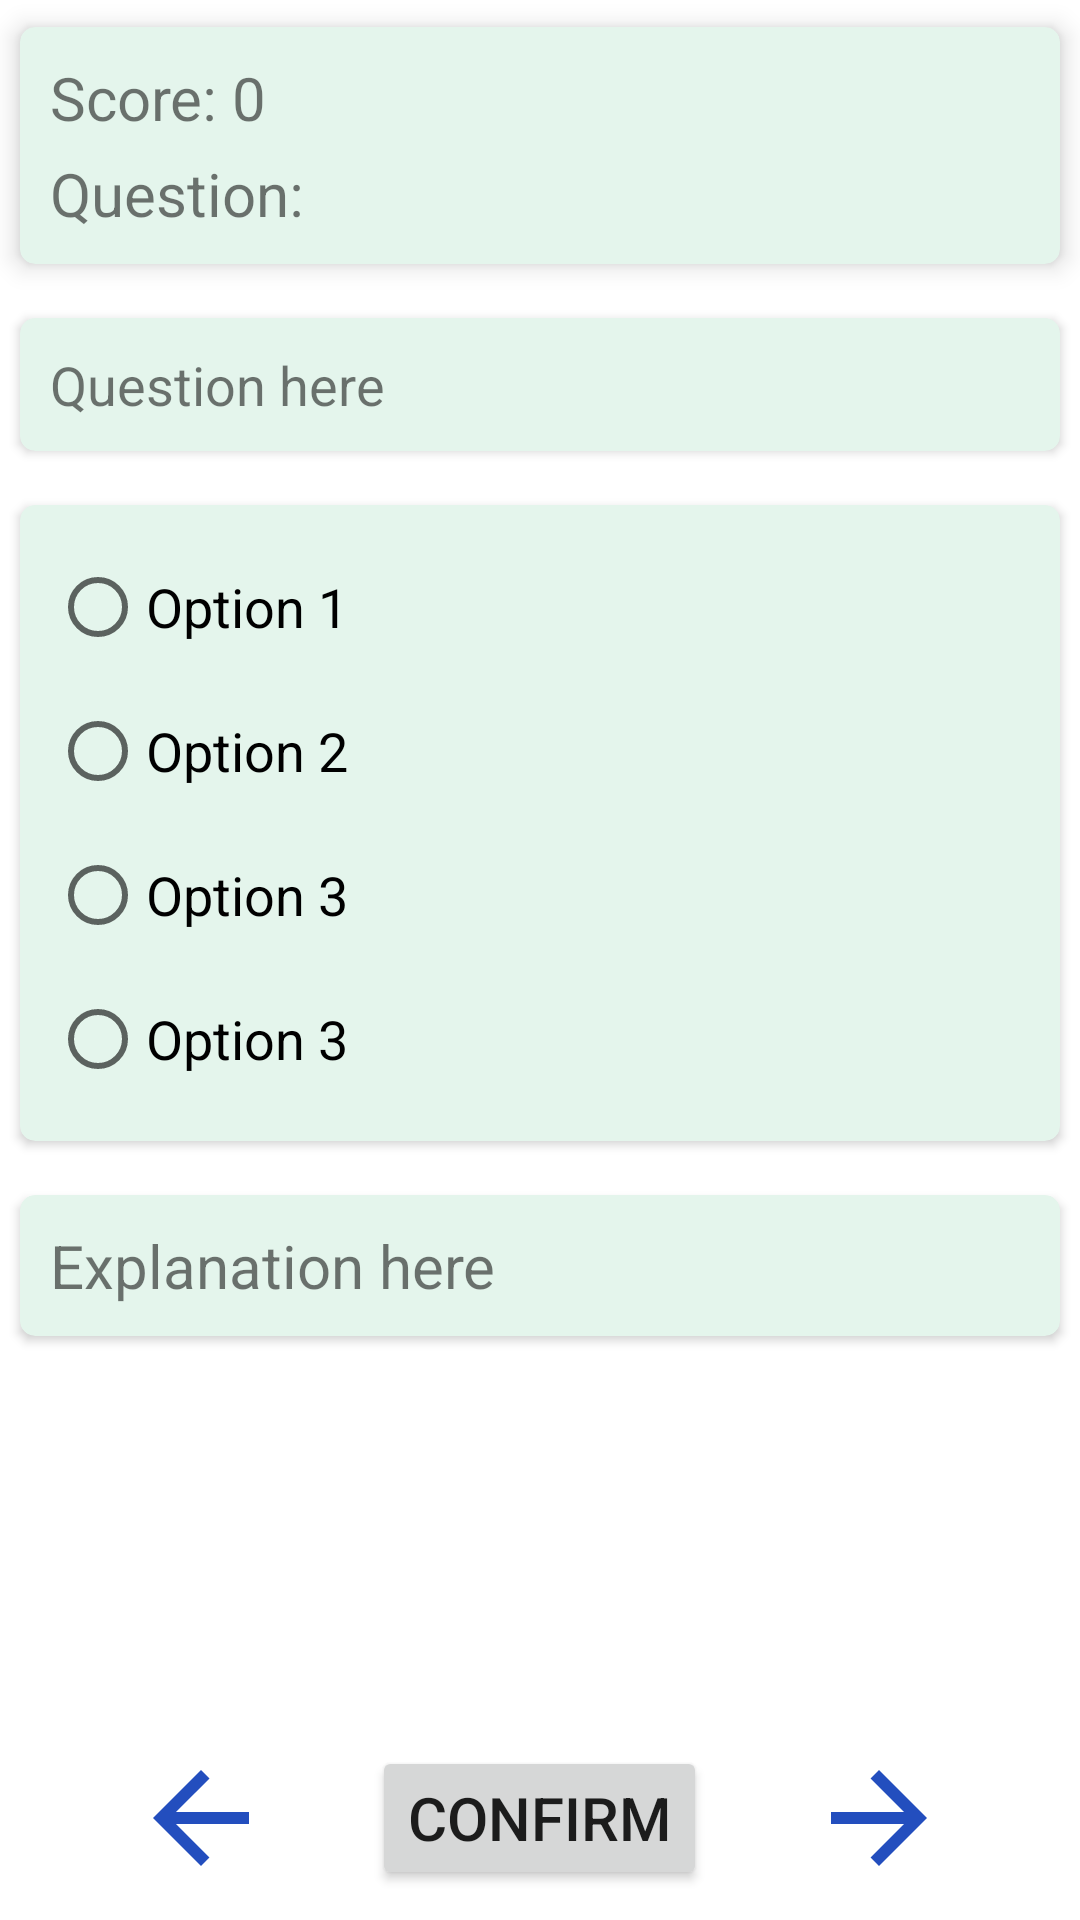

Where to tap for icons on this 1080x1920 app screen, as point (x, y):
arrow back: point (201, 1818)
arrow forward: point (879, 1818)
